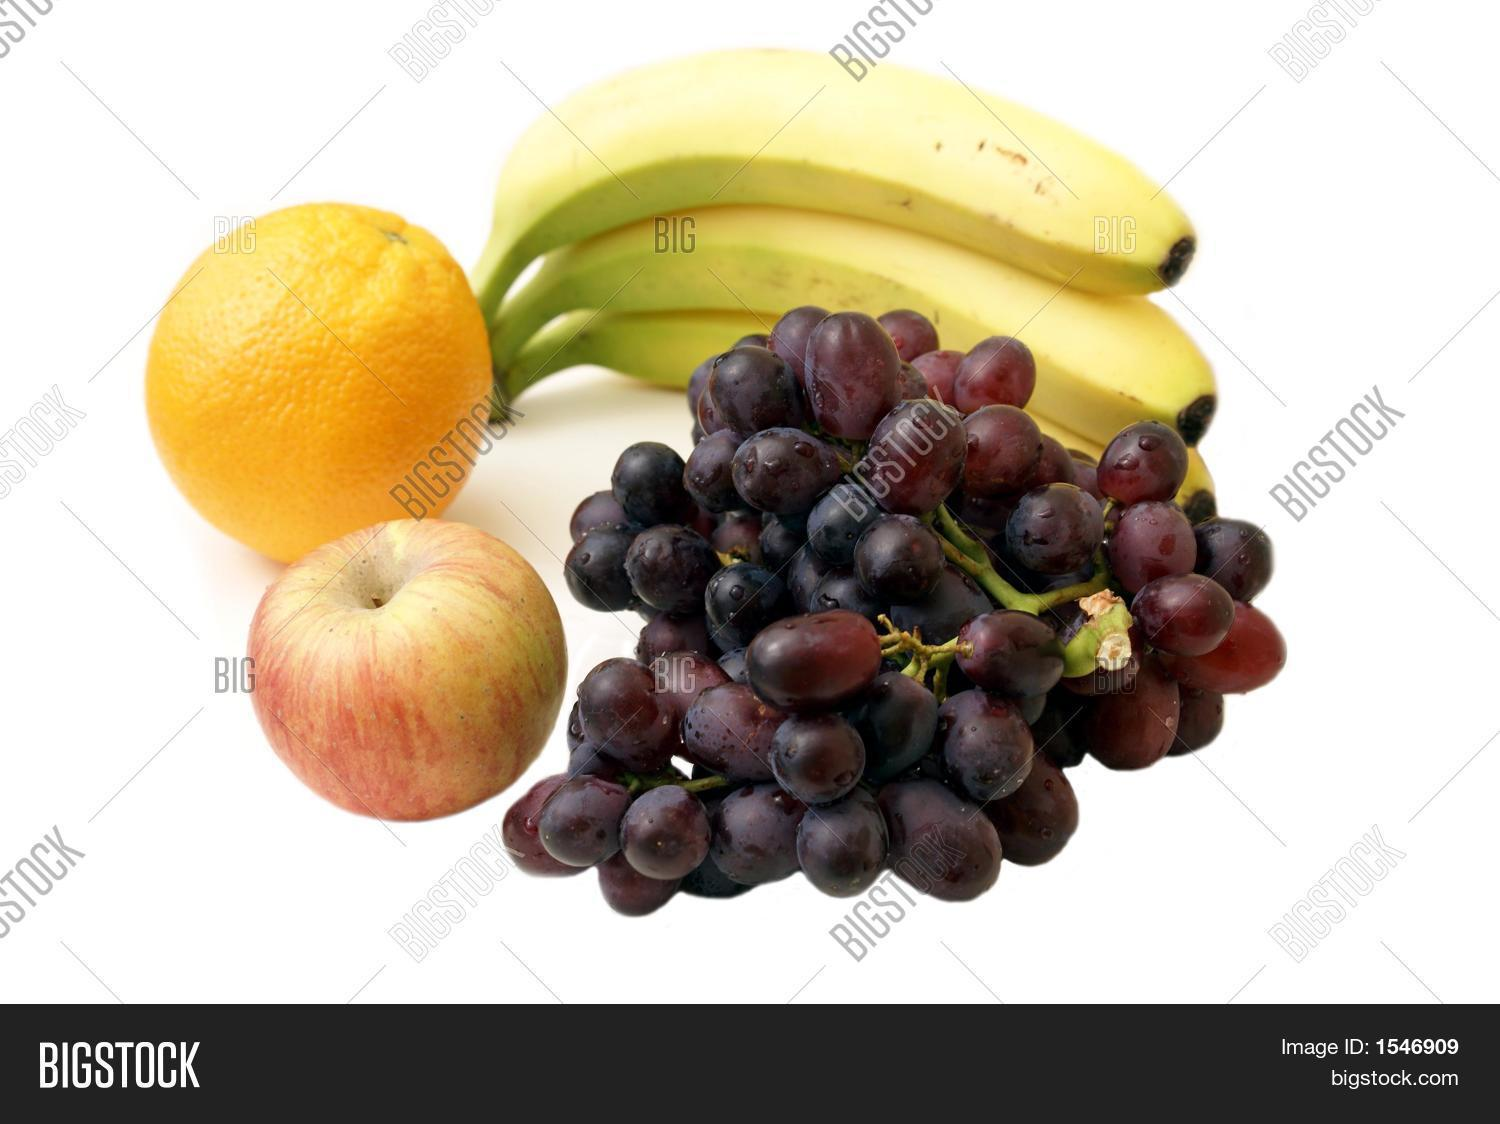apple: (252, 528, 571, 821)
banana: (506, 301, 1279, 574), (468, 49, 1228, 287), (540, 208, 1244, 464)
orange: (146, 205, 493, 594)
